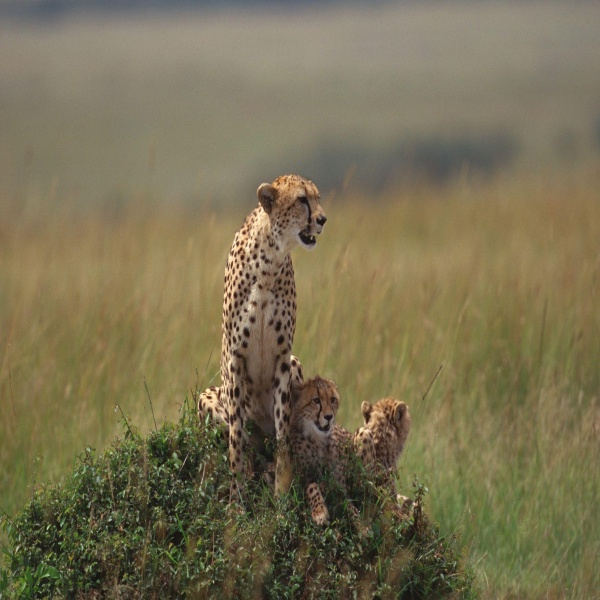Cheetah: (195, 173, 333, 523), (291, 374, 370, 535), (350, 394, 419, 489)
